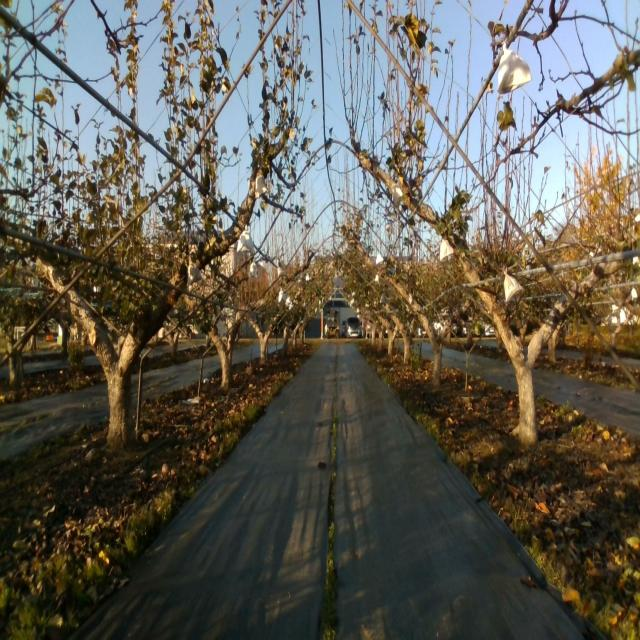pearbags: (498, 40, 534, 92), (502, 267, 525, 302), (236, 223, 256, 253), (187, 257, 205, 287), (253, 169, 268, 199), (438, 239, 454, 265), (392, 182, 405, 208)
